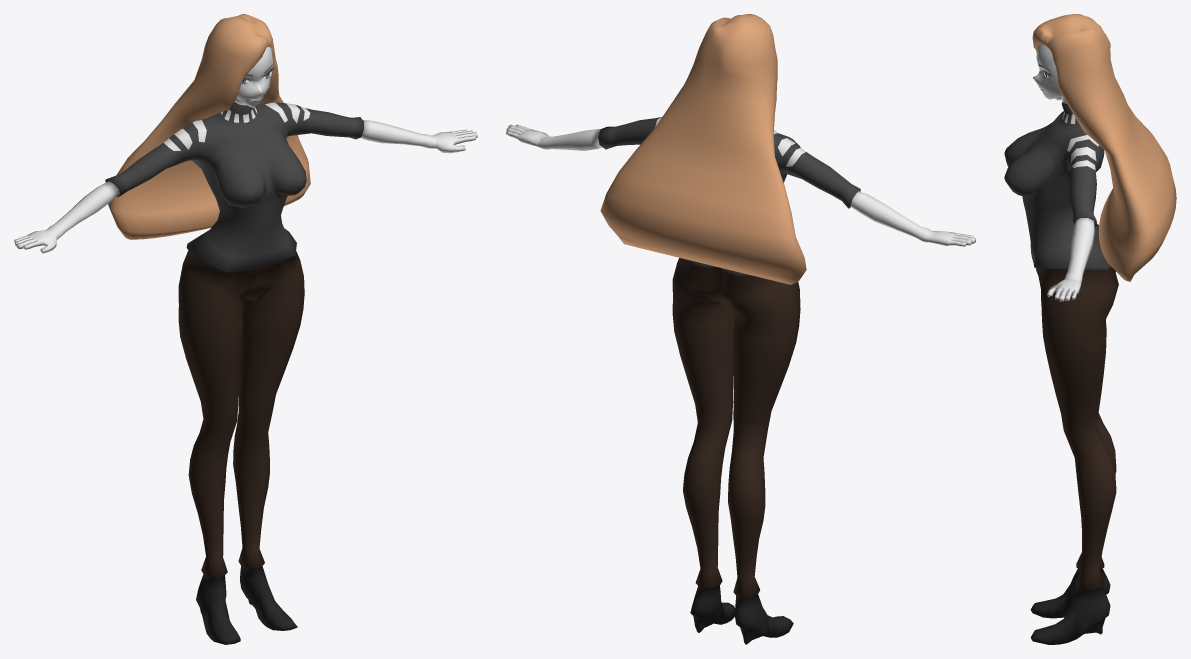
File: Anime_woman.fbx
The picture shows the model from 3 angles, left to right: view 1: azimuth 30°, elevation 25°; view 2: azimuth 150°, elevation 25°; view 3: azimuth 270°, elevation 25°; orthographic projection.
Parts seen in each view (by area): view 1: Body.002, Sphere.003; view 2: Body.002, Sphere.003; view 3: Body.002, Sphere.003.
Boxes of the visible parts, <box> form: Body.002: <box>14,46,477,644</box>; Sphere.003: <box>108,14,310,239</box>; Body.002: <box>506,117,975,644</box>; Sphere.003: <box>600,14,806,284</box>; Body.002: <box>1004,44,1118,644</box>; Sphere.003: <box>1032,14,1176,281</box>.
Size of the model in its own units: 357 by 450 by 116.
